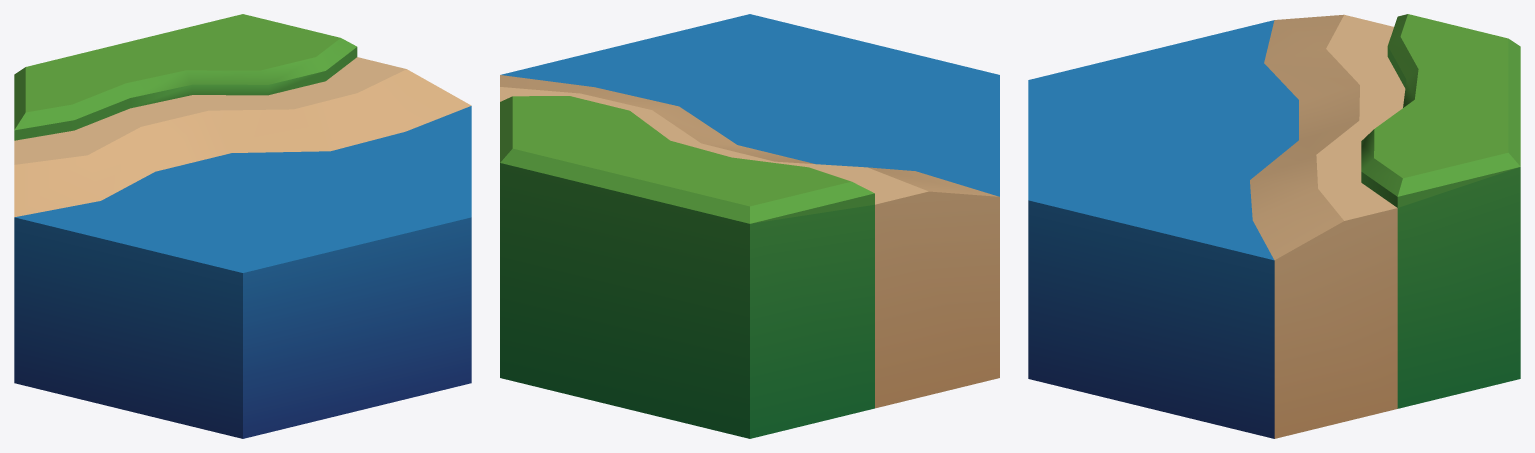
File: hex_coast_3.glb
3 renders of one model, left to right at view 1: azimuth 30°, elevation 25°; view 2: azimuth 150°, elevation 25°; view 3: azimuth 270°, elevation 25°, orthographic. The views are drawn at different scales.
Visible parts, largest first — view 1: hex_coast_3; view 2: hex_coast_3; view 3: hex_coast_3.
Part boxes in pixels (<box>): hex_coast_3: <box>14,14,471,438</box>; hex_coast_3: <box>500,14,999,438</box>; hex_coast_3: <box>1028,14,1520,438</box>.
Size of the model in its own units: 1.15 by 0.5 by 1.
Materials: 1 (1 with a texture image).
